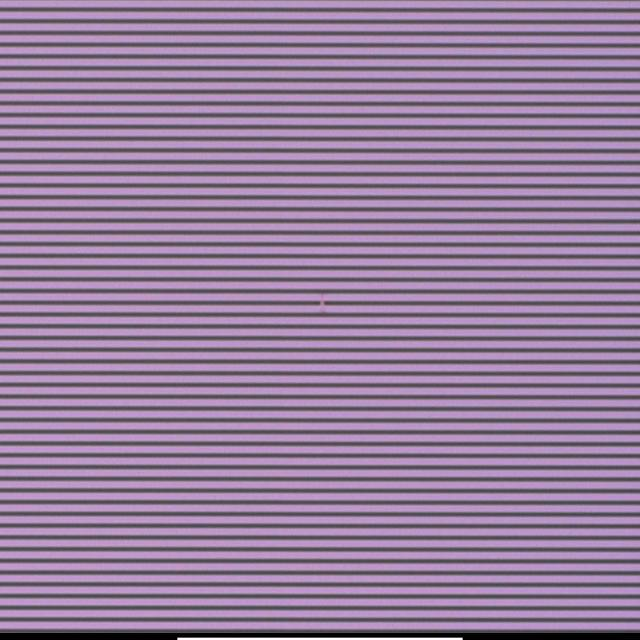03_intrusion: (313, 292, 334, 316)
